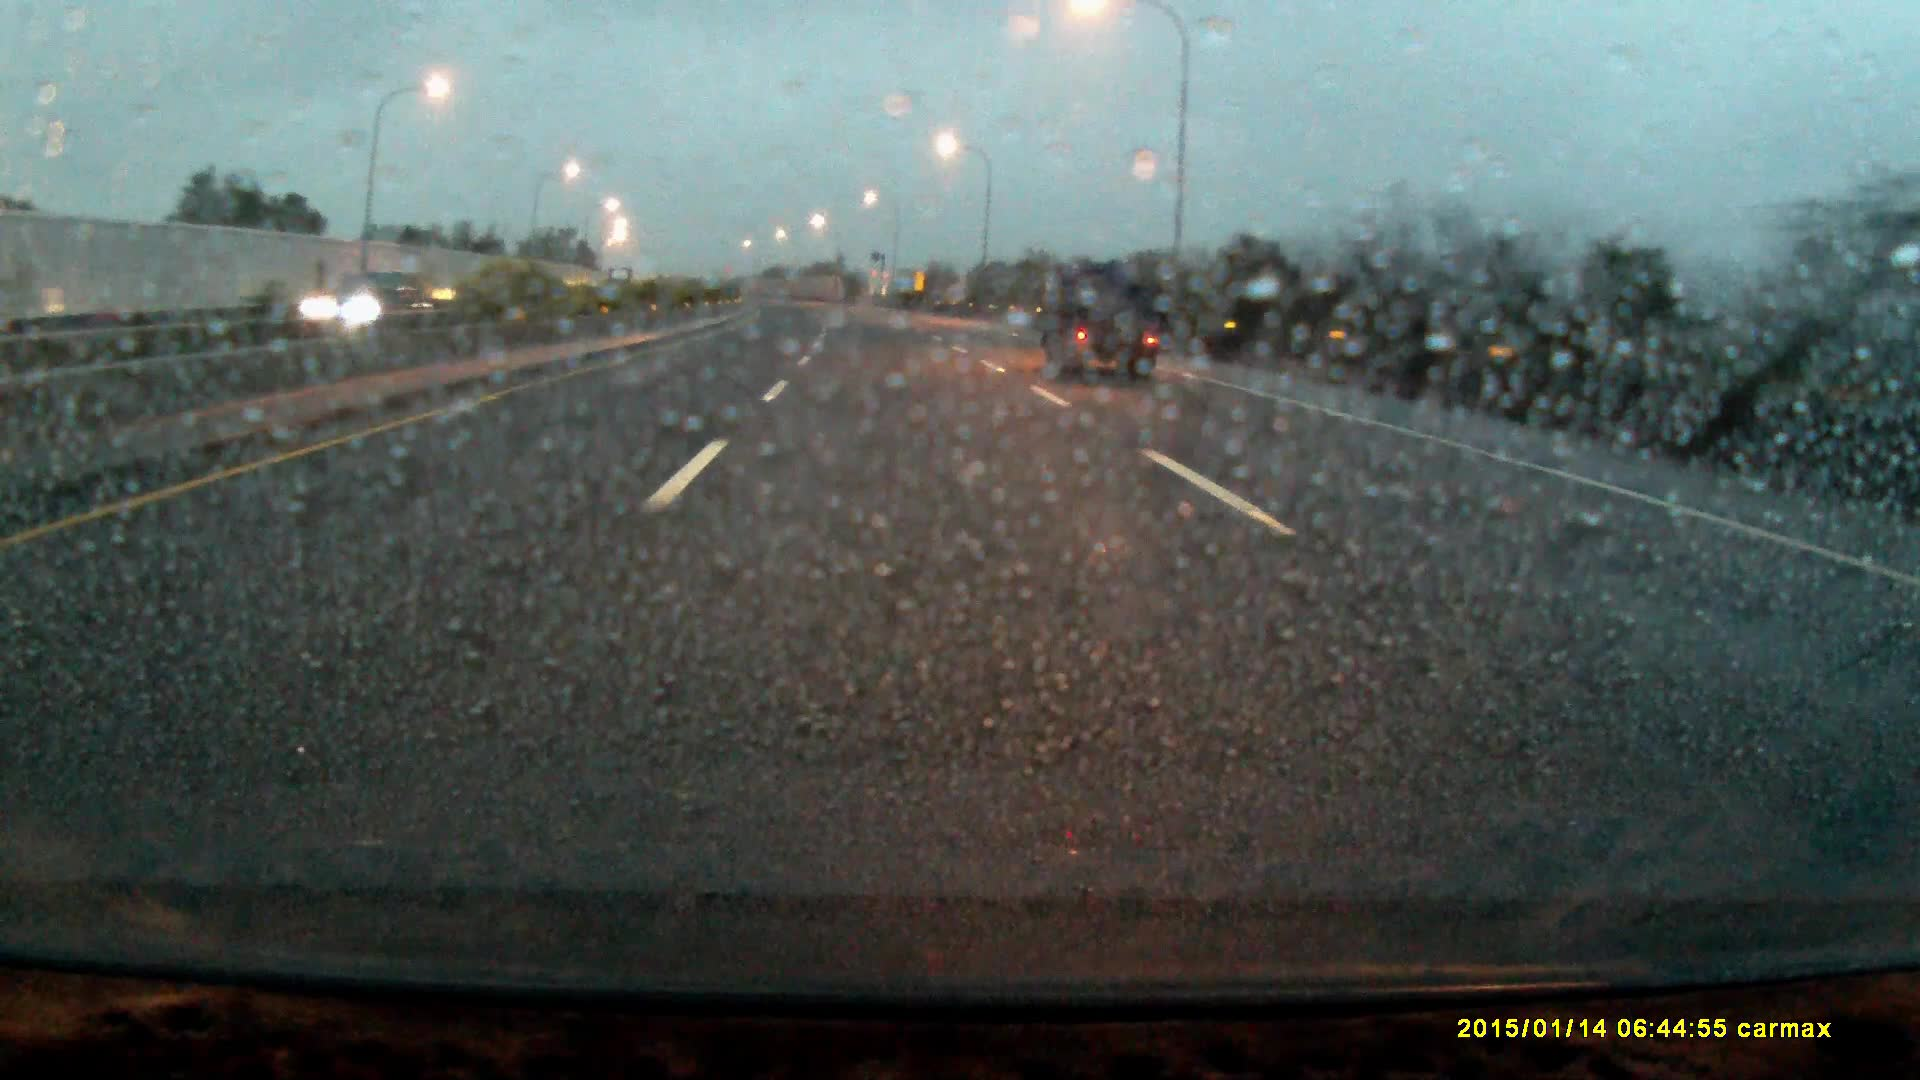vehicle: (1044, 266, 1160, 381), (285, 274, 407, 334), (611, 269, 634, 293)
